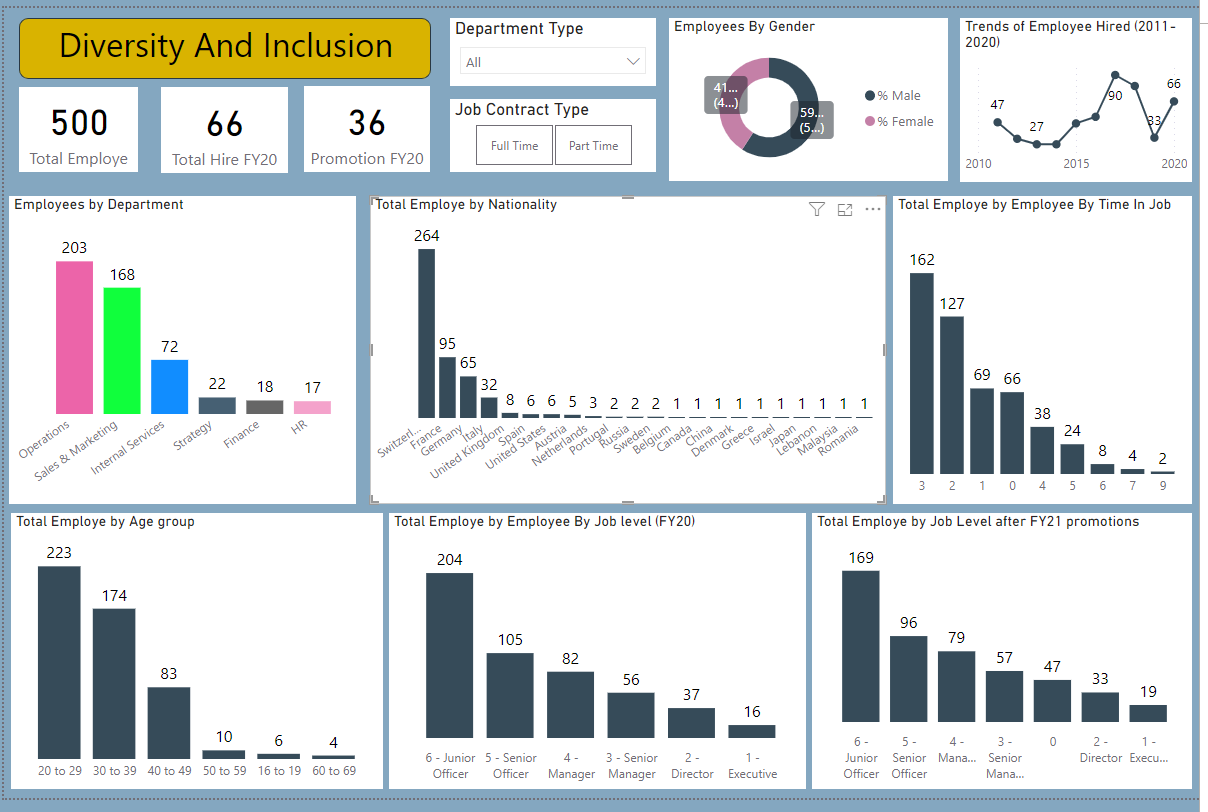

Layout of this report page (visuals, bound fields, positions):
{"tool":"powerbi","page":{"name":"Page 1","canvas":[1280,790],"ordinal":0},"visuals":[{"type":"shape","box":[14.9,9.6,412.1,61.6],"z":0},{"type":"card","fields":{"Values":["All Measure.Total Employe"]},"box":[14.9,78.6,119,85],"z":1000},{"type":"card","fields":{"Values":["All Measure.Total Hire FY20"]},"box":[157.2,78.6,126.4,86],"z":2000},{"type":"card","fields":{"Values":["All Measure.Promotion FY20"]},"box":[299.6,77.5,126.4,86],"z":3000},{"type":"slicer","title":"Department Type","fields":{"Values":["Table 1.Department @01.07.2020"]},"box":[446.1,9.6,206.1,68],"z":4000},{"type":"columnChart","title":"Employees by Department","fields":{"Y":["All Measure.Total Employe"],"Category":["Table 1.Department @01.07.2020"]},"box":[5,188,347,308],"z":5000},{"type":"lineChart","title":"Trends of Employee Hired (2011- 2020)","fields":{"Category":["Table 1.Hire Year"],"Y":["All Measure.Total Employe"]},"box":[956,10,232,164],"z":6000},{"type":"clusteredColumnChart","fields":{"Category":["Table 1.Job Level after FY20 promotions"],"Y":["All Measure.Total Employe"]},"box":[385.1,504.6,416.4,276.2],"z":7000},{"type":"columnChart","fields":{"Category":["Table 1.Age group"],"Y":["All Measure.Total Employe"]},"box":[6.9,504.6,371.8,276.2],"z":8000},{"type":"donutChart","title":"Employees By Gender","fields":{"Y":["All Measure.% Male","All Measure.% Female"]},"box":[665,9.6,279.4,163.6],"z":9000},{"type":"columnChart","title":"Total Employe by Nationality","fields":{"Category":["Table 1.Nationality 1"],"Y":["All Measure.Total Employe"]},"box":[366.4,187.9,515.2,308],"z":10000},{"type":"columnChart","fields":{"Category":["Table 1.Job Level after FY21 promotions"],"Y":["All Measure.Total Employe"]},"box":[808,505,380,276],"z":11000},{"type":"columnChart","fields":{"Category":["Table 1.Time in Job Level @01.07.2020"],"Y":["All Measure.Total Employe"]},"box":[889,188,299,308],"z":12000},{"type":"slicer","title":"Job Contract Type","fields":{"Values":["Table 1.Time type"]},"box":[446.1,91.4,206.1,72.2],"z":13000}]}

Visuals, with their boxes on the page's 1280x790 design canvas (x1, y1, x2, y2). These are canvas units, not pixel positions in the 1208x812 screenshot, which may show the page scaled, cropped or inside an application window:
shape: box=[15, 10, 427, 71]
card - All Measure.Total Employe: box=[15, 79, 134, 164]
card - All Measure.Total Hire FY20: box=[157, 79, 284, 165]
card - All Measure.Promotion FY20: box=[300, 78, 426, 164]
"Department Type" slicer: box=[446, 10, 652, 78]
"Employees by Department" columnChart: box=[5, 188, 352, 496]
"Trends of Employee Hired (2011- 2020)" lineChart: box=[956, 10, 1188, 174]
clusteredColumnChart - Table 1.Job Level after FY20 promotions x All Measure.Total Employe: box=[385, 505, 802, 781]
columnChart - Table 1.Age group x All Measure.Total Employe: box=[7, 505, 379, 781]
"Employees By Gender" donutChart: box=[665, 10, 944, 173]
"Total Employe by Nationality" columnChart: box=[366, 188, 882, 496]
columnChart - Table 1.Job Level after FY21 promotions x All Measure.Total Employe: box=[808, 505, 1188, 781]
columnChart - Table 1.Time in Job Level @01.07.2020 x All Measure.Total Employe: box=[889, 188, 1188, 496]
"Job Contract Type" slicer: box=[446, 91, 652, 164]
